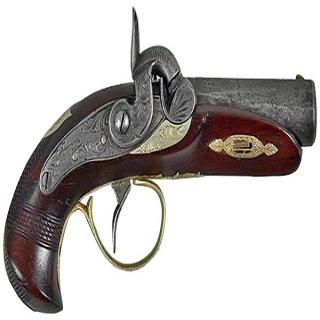gun: (1, 18, 318, 314)
